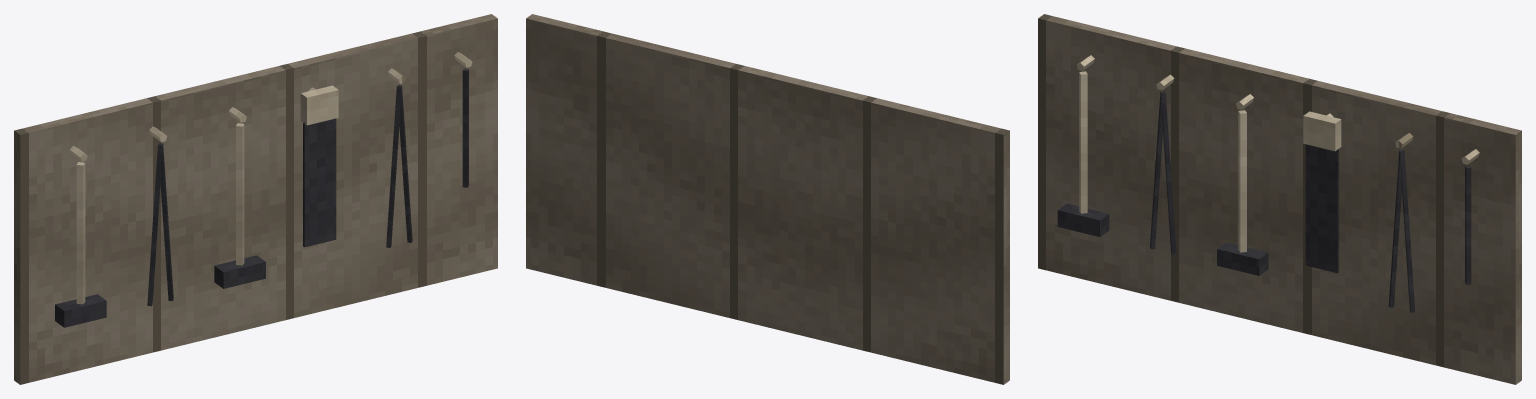
Rendered from tool_wall.obj.
3 renders of one model, left to right at view 1: azimuth 30°, elevation 25°; view 2: azimuth 150°, elevation 25°; view 3: azimuth 330°, elevation 25°, orthographic.
Parts seen in each view (by area): view 1: tool_wall; view 2: tool_wall; view 3: tool_wall.
Boxes of the visible parts, <box> form: tool_wall: <box>14,14,497,384</box>; tool_wall: <box>526,14,1009,384</box>; tool_wall: <box>1038,14,1521,384</box>.
Bounding box in the file's own units: 1.8 × 0.9 × 0.12.
